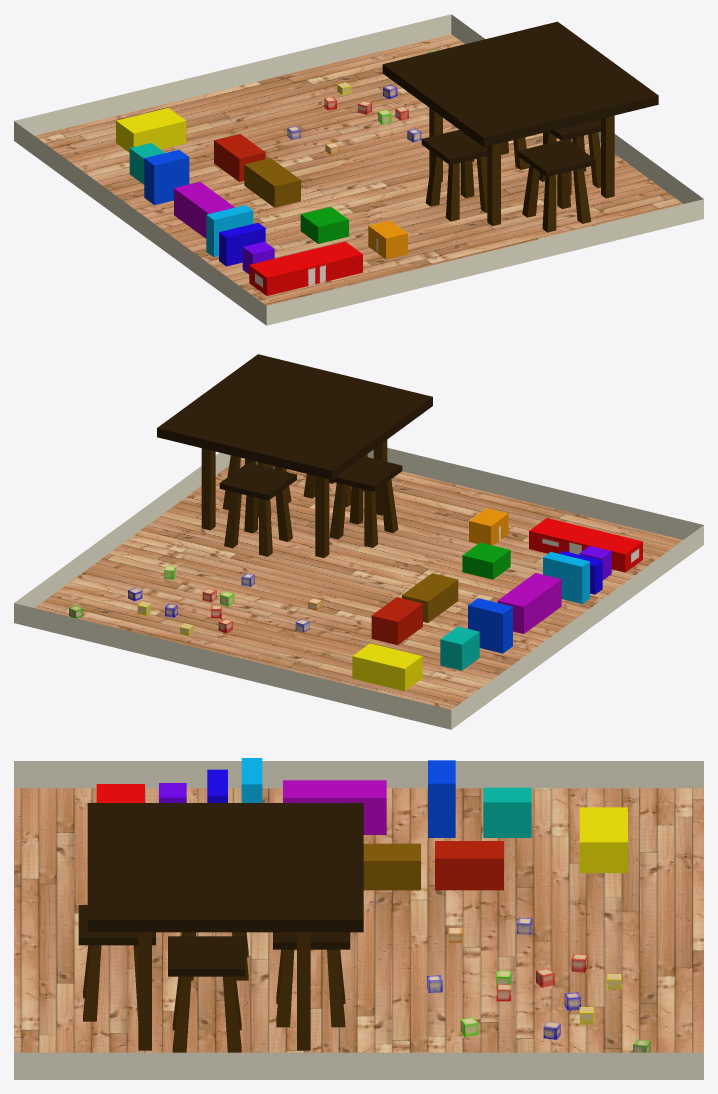
File: map_mesh.fbx
The picture shows the model from 3 angles, top to bottom: view 1: azimuth 30°, elevation 25°; view 2: azimuth 150°, elevation 25°; view 3: azimuth 270°, elevation 25°; orthographic projection. The views are drawn at different scales.
Parts seen in each view (by area): view 1: pCube10; view 2: pCube10; view 3: pCube10.
Part boxes in pixels (x1,y1,x2,y2): pCube10: [14, 14, 703, 325]; pCube10: [14, 354, 703, 729]; pCube10: [14, 758, 703, 1079].
Bounding box in the file's own units: 500 × 118 × 500.
